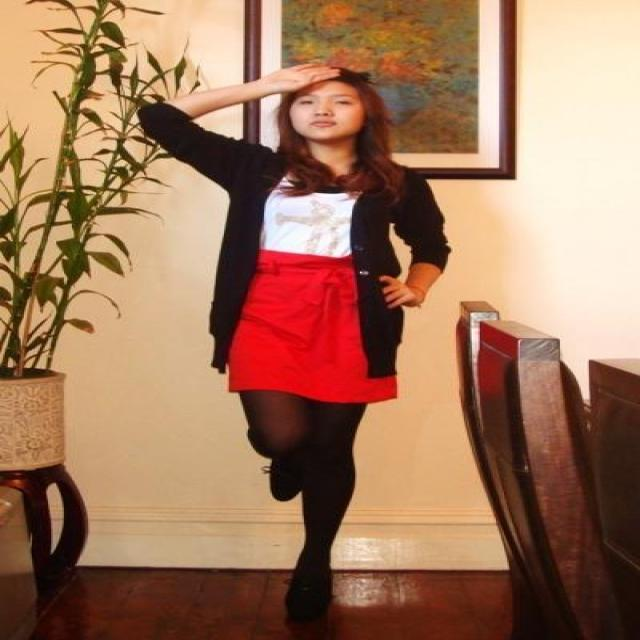jacket: (135, 97, 498, 378)
shirt: (261, 173, 355, 257)
shoe: (264, 455, 325, 621)
skirt: (211, 243, 395, 409)
